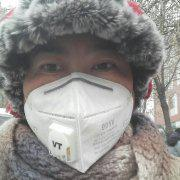OK: (25, 39, 143, 157)
